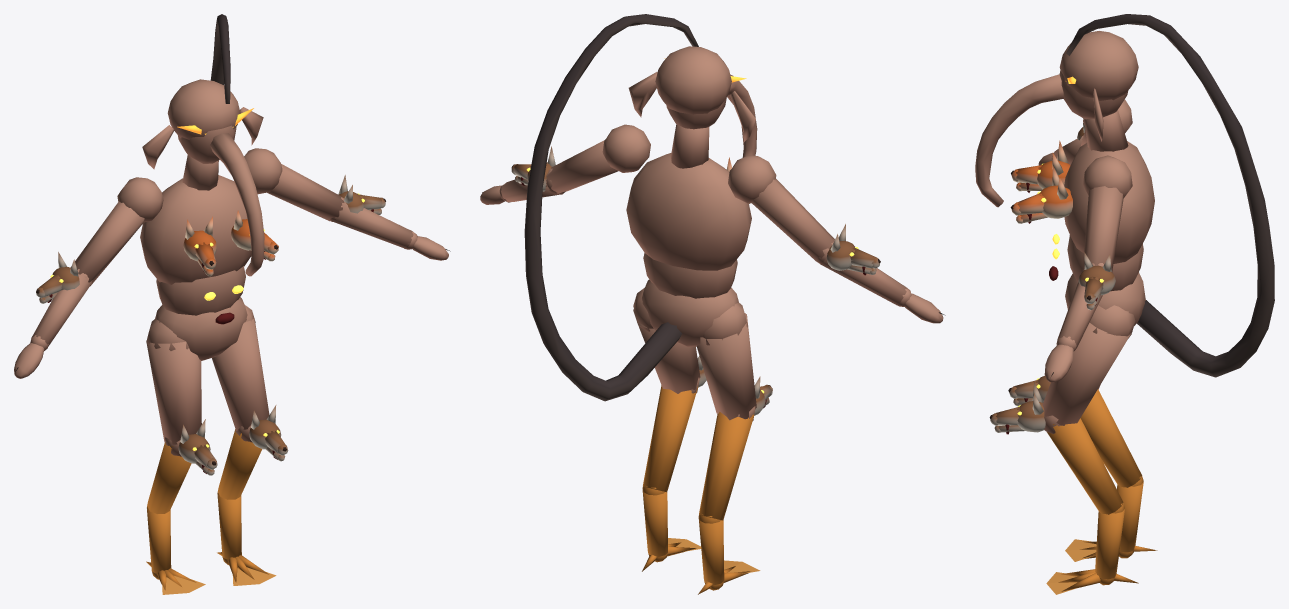
Rendered from cracovia.glb.
3 views of the same model, side by side, from view 1: azimuth 30°, elevation 25°; view 2: azimuth 150°, elevation 25°; view 3: azimuth 270°, elevation 25° (orthographic). The views are drawn at different scales.
Parts seen in each view (by area): view 1: torso, head, thigh_R, shin_L, shin_R, thigh_L, upperarm_R, upperarm_L, pelvis, forearm_R, forearm_L, tail (+4 smaller); view 2: torso, tail, head, shin_R, shin_L, thigh_R, upperarm_R, upperarm_L, pelvis, forearm_R, thigh_L, forearm_L (+1 smaller); view 3: torso, tail, head, shin_L, thigh_L, shin_R, upperarm_L, forearm_L, pelvis, foot_L, hand_L, foot_R (+1 smaller).
Boxes of the visible parts, box(x1,y1,x2,y2) form: torso: box(140, 155, 278, 324); head: box(142, 79, 264, 276); thigh_R: box(146, 319, 201, 456); shin_L: box(217, 405, 288, 564); shin_R: box(147, 419, 217, 579); thigh_L: box(212, 305, 269, 442); upperarm_R: box(70, 177, 163, 285); upperarm_L: box(244, 148, 344, 221); pelvis: box(155, 297, 247, 360); forearm_R: box(30, 252, 92, 350); forearm_L: box(330, 175, 417, 249); tail: box(210, 14, 230, 103); torso: box(626, 124, 751, 298); tail: box(524, 14, 698, 401); head: box(628, 46, 757, 157); shin_R: box(698, 376, 772, 590); shin_L: box(642, 356, 706, 562); thigh_R: box(696, 302, 756, 420); upperarm_R: box(728, 155, 834, 264); upperarm_L: box(545, 124, 650, 194); pelvis: box(642, 279, 738, 346); forearm_R: box(816, 224, 911, 306); thigh_L: box(633, 288, 700, 393); forearm_L: box(499, 146, 560, 202); torso: box(1010, 110, 1154, 291); tail: box(1066, 14, 1274, 377); head: box(975, 31, 1138, 207); shin_L: box(989, 381, 1124, 585); thigh_L: box(1042, 305, 1135, 433); shin_R: box(1008, 376, 1143, 558); upperarm_L: box(1082, 155, 1132, 271); forearm_L: box(1056, 252, 1115, 351); pelvis: box(1065, 272, 1145, 325); foot_L: box(1046, 569, 1138, 594); hand_L: box(1044, 344, 1073, 382); foot_R: box(1065, 539, 1157, 561).
Bounding box in the file's own units: 2.23 × 2.59 × 1.21.
